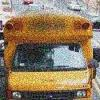buses: (0, 10, 98, 100)
